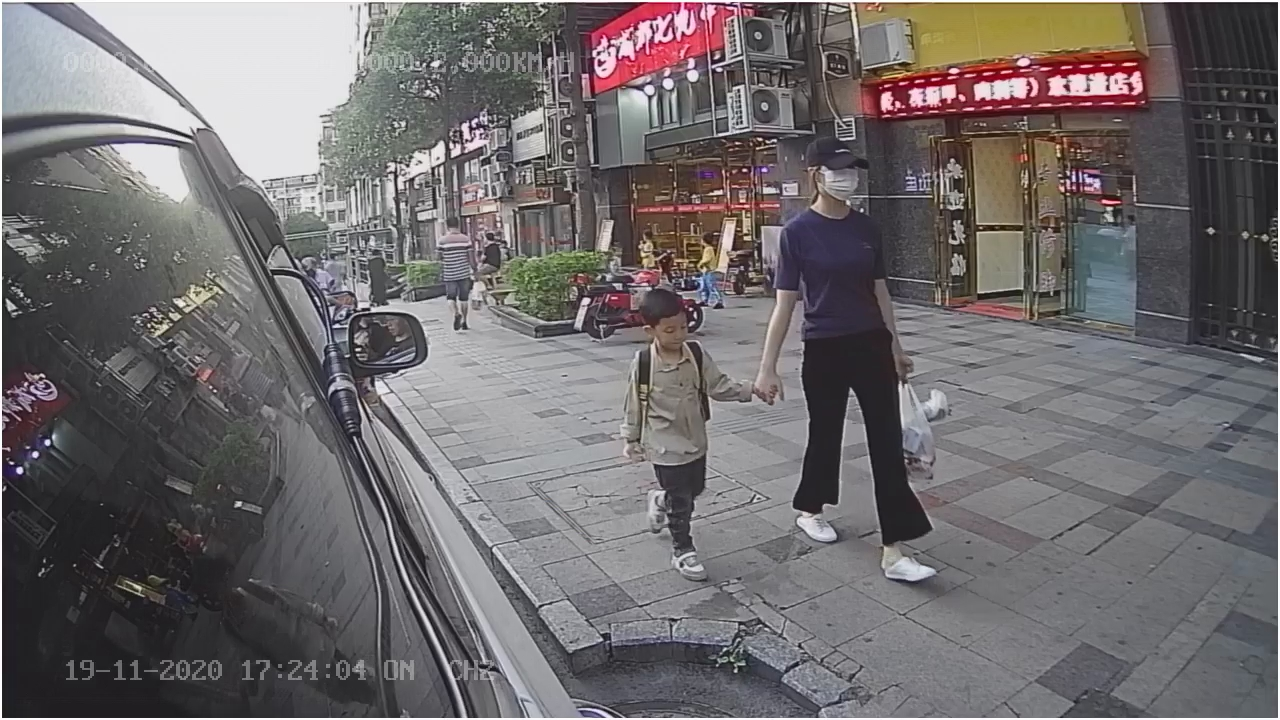person: (757, 138, 939, 584), (615, 283, 760, 589), (430, 212, 477, 336)
